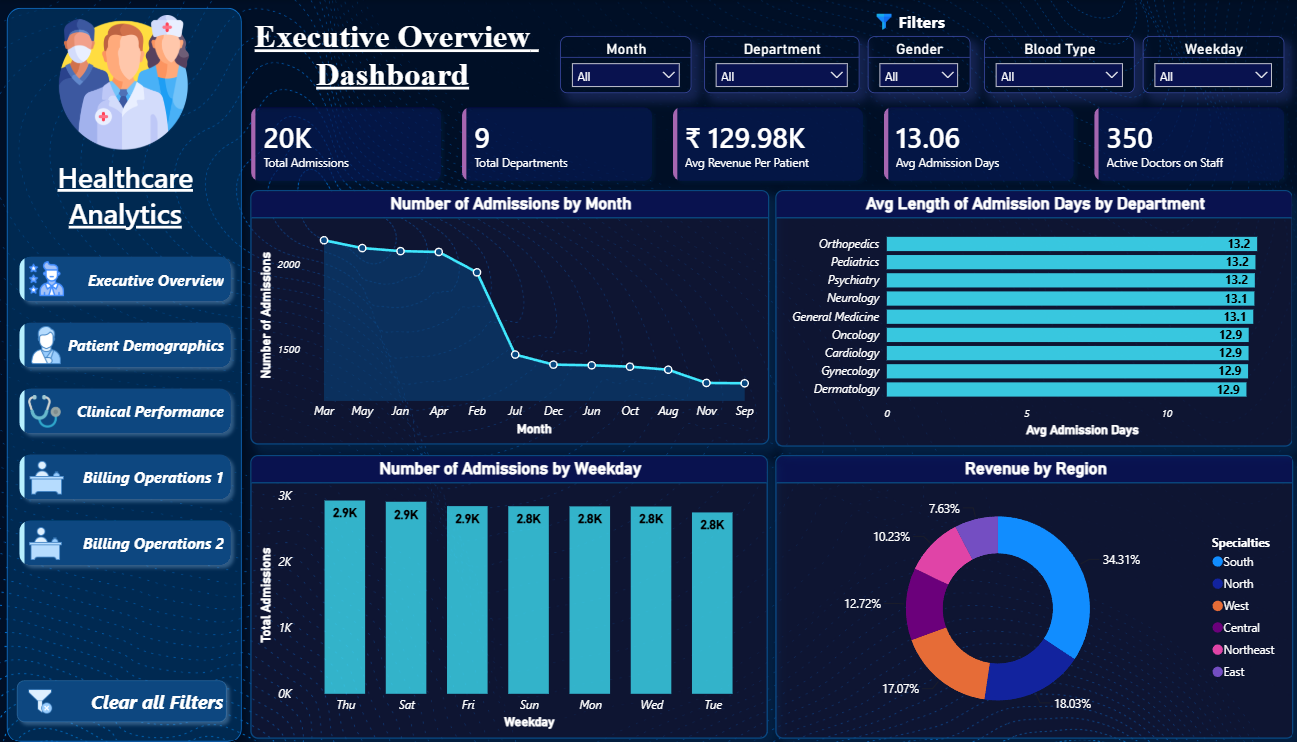

The dashboard page shown, as its layout file describes it:
{"tool":"powerbi","page":{"name":"Executive Overview","canvas":[1500,860],"ordinal":0},"visuals":[{"type":"group","id":"g1","title":"Group 4","box":[626.7,0,874.1,125.3],"z":0,"group":"g3"},{"type":"group","id":"g2","title":"Group 3","box":[626.7,0,874.1,125.3],"z":0,"group":"g1"},{"type":"shape","box":[626.7,0,874.1,125.3],"z":0,"group":"g2"},{"type":"cardVisual","fields":{"Data":["measures_.Total Admissions","measures_.Total Departments","measures_.Avg Revenue Per Patient","measures_.ALOS","measures_.Active Doctors on Staff"]},"box":[273.6,107,1225.9,119.2],"z":0},{"type":"pageNavigator","box":[13.9,287.4,262.3,374.7],"z":0,"group":"g4"},{"type":"shape","box":[0,0,288.9,865.2],"z":1000},{"type":"textbox","box":[633.8,6.7,859.3,41.6],"z":1000,"group":"g1"},{"type":"image","box":[1001.5,16.2,37.4,18.7],"z":1000,"group":"g3"},{"type":"slicer","title":"Department","fields":{"Values":["admissions.department"]},"box":[812,41.3,179,65.3],"z":1000,"group":"g2"},{"type":"image","box":[30.6,300.7,46.7,43.3],"z":1000,"group":"g4"},{"type":"group","id":"g3","title":"Group 5","box":[626.7,0,874.3,125.3],"z":2000},{"type":"slicer","title":"Gender","fields":{"Values":["patients.gender"]},"box":[1001.5,41.3,118.2,65.3],"z":2000,"group":"g2"},{"type":"image","box":[29.6,375.8,48.9,46.7],"z":2000,"group":"g4"},{"type":"slicer","title":"Weekday","fields":{"Values":["Calendar.Weekday"]},"box":[1318.3,41.3,162.9,65.3],"z":3000,"group":"g2"},{"type":"image","box":[30.6,530.7,46.7,41.1],"z":3000,"group":"g4"},{"type":"actionButton","box":[12.2,774.8,259.9,66.2],"z":3000},{"type":"image","box":[58.1,16.6,172.7,155.2],"z":4000},{"type":"slicer","title":"Blood Type","fields":{"Values":["patients.bloodtype"]},"box":[1135.1,41.3,173.4,65.3],"z":4000,"group":"g2"},{"type":"image","box":[30,606.6,46.7,40],"z":4000,"group":"g4"},{"type":"slicer","title":"Month","fields":{"Values":["Calendar.Month"]},"box":[647,41.3,151.1,65.3],"z":5000,"group":"g2"},{"type":"image","box":[28.9,456.6,47.8,37.8],"z":5000,"group":"g4"},{"type":"image","box":[24.5,793.4,45.4,28.5],"z":5000},{"type":"textbox","box":[17.3,171.5,256.5,115.3],"z":6000},{"type":"textbox","box":[274.3,7.1,360,118.6],"z":7000},{"type":"lineChart","title":"Number of Admissions by Month","fields":{"Y":["measures_.Total Admissions"],"Category":["Calendar.Month"]},"box":[289.6,219,598,294],"z":8000},{"type":"donutChart","title":"Revenue by Region","fields":{"Y":["measures_.Total Gross Revenue"],"Category":["hospitals.region"]},"box":[894.9,524.5,598,327.1],"z":9000},{"type":"map","title":"Number of Admissions By City","fields":{"Category":["hospitals.city"],"Series":["hospitals.city"],"Size":["measures_.Total Admissions"]},"box":[894.3,218.6,597.1,295.7],"z":10000},{"type":"clusteredColumnChart","title":"Number of Admissions by Weekday","fields":{"Category":["Calendar.Weekday"],"Y":["measures_.Total Admissions"]},"box":[289.6,524.5,596.6,327.1],"z":11000},{"type":"group","id":"g4","title":"Group 1","box":[13.9,287.4,262.3,374.7],"z":12000}]}

Visuals, with their boxes in screenshot pixels (x1, y1, x2, y2), scaled from the page's 1500x860 canvas onto the 1297x742 screenshot:
"Group 4" group: (542,0,1296,108)
"Group 3" group: (542,0,1296,108)
shape: (542,0,1296,108)
cardVisual - measures_.Total Admissions x measures_.Total Departments: (237,92,1296,195)
pageNavigator: (12,248,239,571)
shape: (0,0,250,741)
textbox: (548,6,1291,42)
image: (866,14,898,30)
"Department" slicer: (702,36,857,92)
image: (26,259,67,297)
"Group 5" group: (542,0,1296,108)
"Gender" slicer: (866,36,968,92)
image: (26,324,68,365)
"Weekday" slicer: (1140,36,1281,92)
image: (26,458,67,493)
actionButton: (11,668,235,726)
image: (50,14,200,148)
"Blood Type" slicer: (981,36,1131,92)
image: (26,523,66,558)
"Month" slicer: (559,36,690,92)
image: (25,394,66,427)
image: (21,685,60,709)
textbox: (15,148,237,247)
textbox: (237,6,548,108)
"Number of Admissions by Month" lineChart: (250,189,767,443)
"Revenue by Region" donutChart: (774,453,1291,735)
"Number of Admissions By City" map: (773,189,1290,444)
"Number of Admissions by Weekday" clusteredColumnChart: (250,453,766,735)
"Group 1" group: (12,248,239,571)
